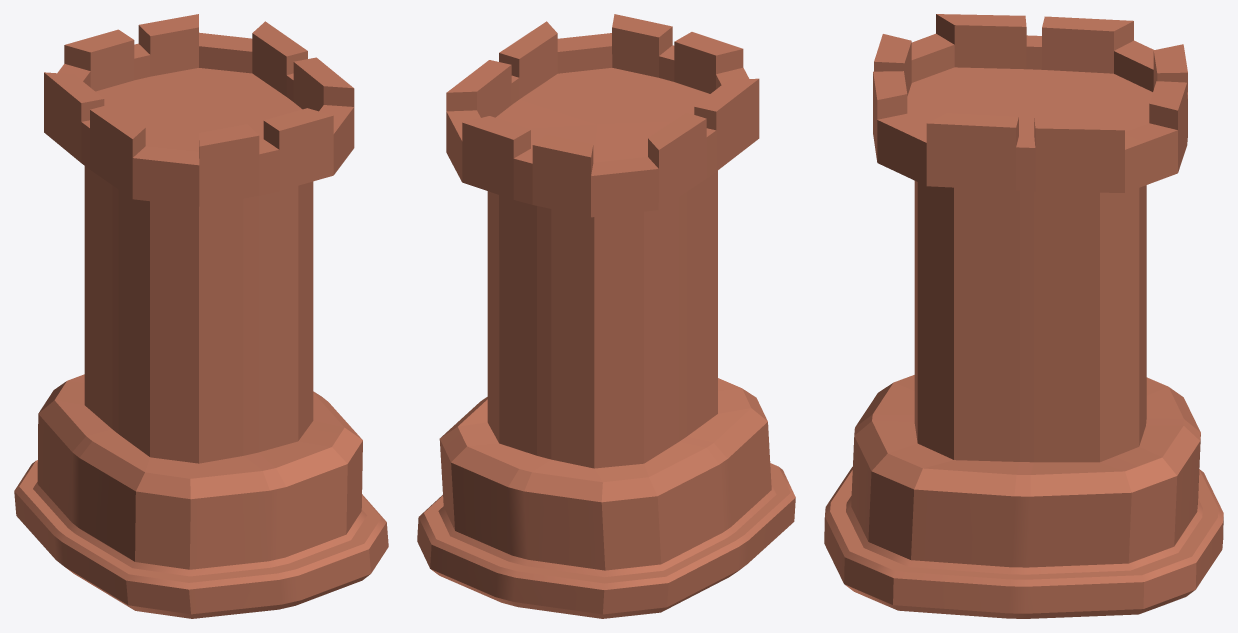
The model's file is SM_Chess-Rook.fbx.
3 renders of one model, left to right at view 1: azimuth 30°, elevation 25°; view 2: azimuth 150°, elevation 25°; view 3: azimuth 270°, elevation 25°, orthographic. The views are drawn at different scales.
Visible parts, largest first — view 1: pillar_1_piece_2_low; view 2: pillar_1_piece_2_low; view 3: pillar_1_piece_2_low.
Part boxes in pixels (x1=…): pillar_1_piece_2_low: x1=14, y1=14, x2=388, y2=618; pillar_1_piece_2_low: x1=417, y1=14, x2=795, y2=618; pillar_1_piece_2_low: x1=824, y1=14, x2=1223, y2=618.
Bounding box in the file's own units: 4.68 × 7.34 × 5.48.
